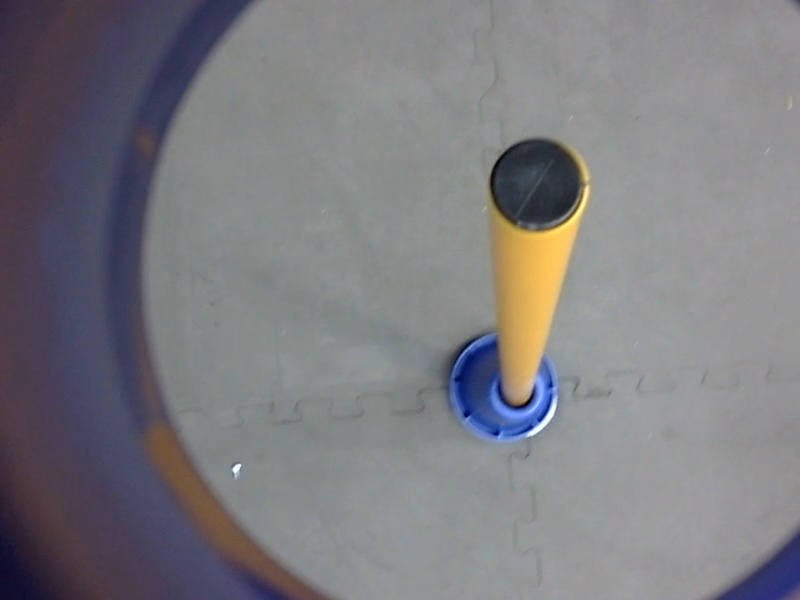tip: (486, 129, 595, 238)
